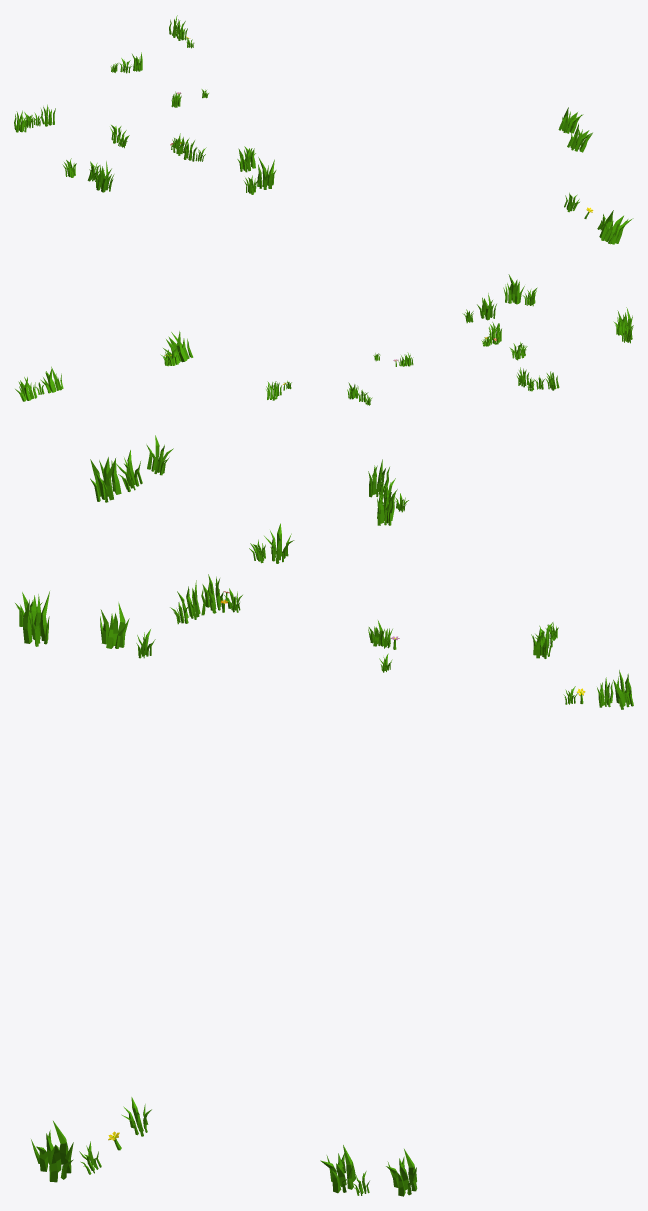
The model's file is Bellifer Fields Passable.fbx.
The picture shows the model from 3 angles, top to bottom: view 1: azimuth 30°, elevation 25°; view 2: azimuth 150°, elevation 25°; view 3: azimuth 270°, elevation 25°; orthographic projection. The views are drawn at different scales.
Parts seen in each view (by area): view 1: Grass Variant A.005, Grass Variant A.002, Grass Variant A.006, Grass Variant A.001; view 2: Grass Variant A.005, Grass Variant A.002, Grass Variant A.006, Grass Variant A.007, Grass Variant A; view 3: Grass Variant A.005, Grass Variant A.002.
Boxes of the visible parts, x1,y1,x2,y2 form: Grass Variant A.005: [599, 210, 633, 244]; Grass Variant A.002: [257, 157, 276, 189]; Grass Variant A.006: [567, 123, 592, 152]; Grass Variant A.001: [94, 161, 114, 192]; Grass Variant A.005: [163, 331, 193, 363]; Grass Variant A.002: [503, 274, 524, 304]; Grass Variant A.006: [40, 366, 63, 393]; Grass Variant A.007: [15, 377, 37, 401]; Grass Variant A: [477, 293, 496, 320]; Grass Variant A.005: [31, 1121, 73, 1182]; Grass Variant A.002: [20, 591, 49, 646].
Bounding box in the file's own units: 440 × 135 × 238.
